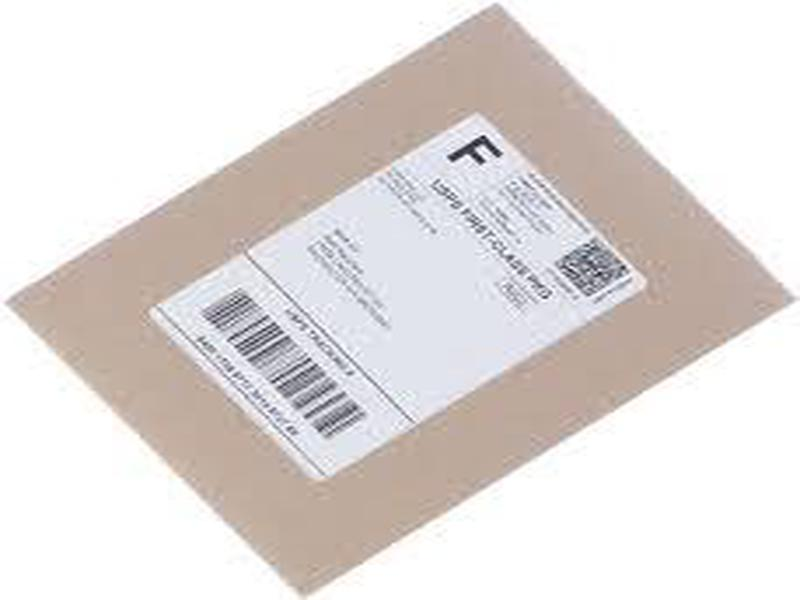package: (20, 17, 784, 589)
